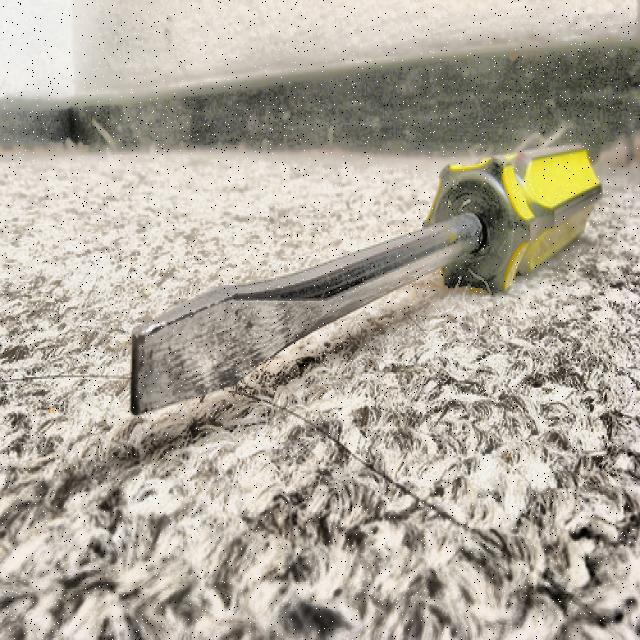screwdriver: (130, 144, 601, 414)
